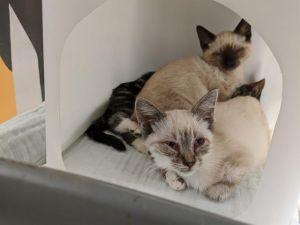siamese: (132, 85, 227, 182)
